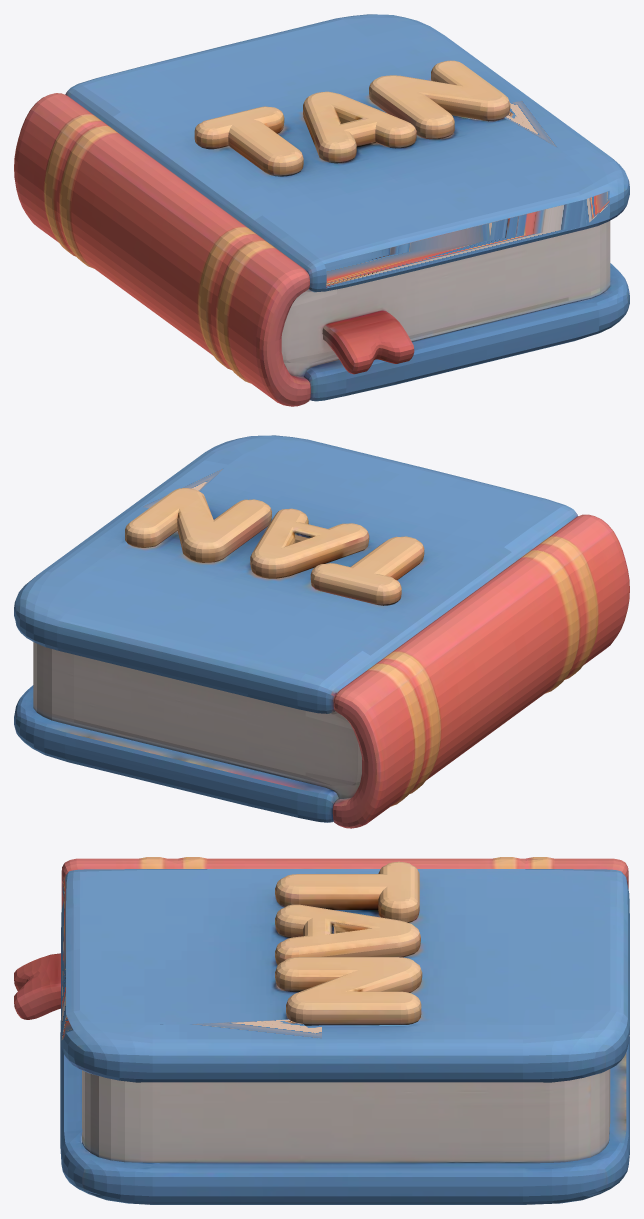
The model's file is book_.glb.
3 renders of one model, top to bottom at view 1: azimuth 30°, elevation 25°; view 2: azimuth 150°, elevation 25°; view 3: azimuth 270°, elevation 25°, orthographic. The views are drawn at different scales.
Parts seen in each view (by area): view 1: mesh_input; view 2: mesh_input; view 3: mesh_input.
Boxes of the visible parts, x1=… form: mesh_input: x1=14, y1=14, x2=629, y2=406; mesh_input: x1=14, y1=435, x2=629, y2=828; mesh_input: x1=14, y1=857, x2=629, y2=1204.
Size of the model in its own units: 51723 by 20665 by 62206.
Materials: 1 (1 with a texture image).
